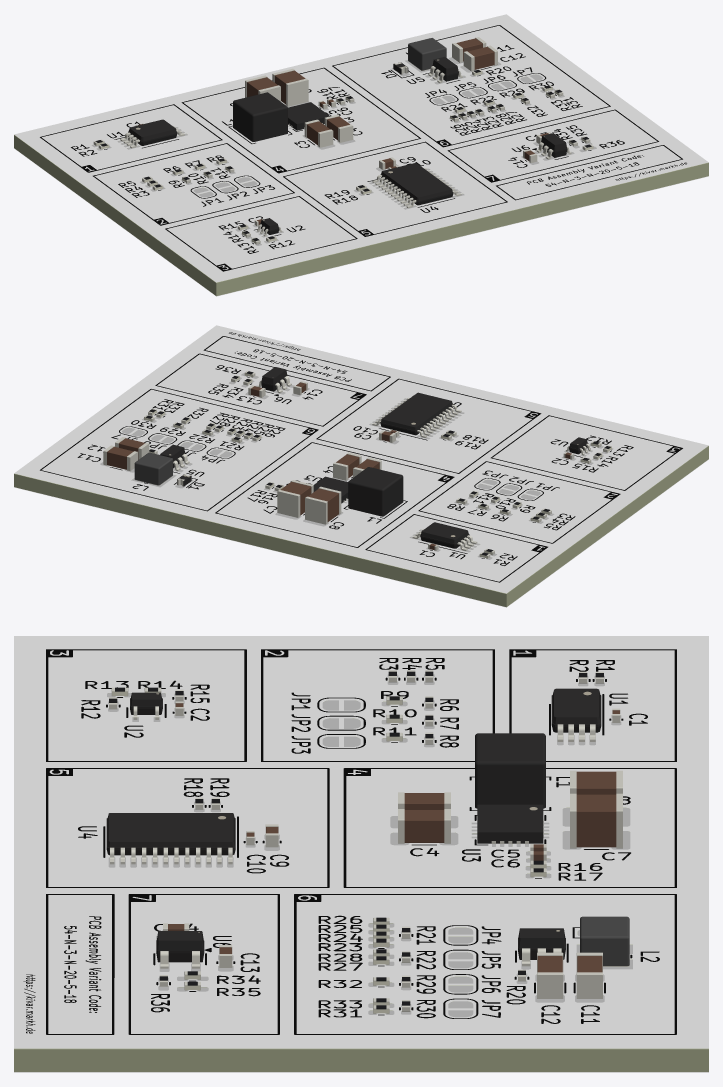
File: board.glb
3 views of the same model, one above another, from view 1: azimuth 30°, elevation 25°; view 2: azimuth 150°, elevation 25°; view 3: azimuth 270°, elevation 25° (orthographic). The views are drawn at different scales.
Visible parts, largest first — view 1: board_soldermask (×2), board_silkscreen, board_PCB, board_pad, C_1206_3216Metric (×4), TSSOP-24_4.4x7.8mm_P0.65mm, L_Coilcraft_XAL4030-XXX, C_1210_3225Metric (×2), TSSOP-8_4.4x3mm_P0.65mm, L_Wuerth_MAPI_3020, QFN-20-1EP_4x4mm_Pitch0.5mm, SOT-23-5 (+1 smaller); view 2: board_soldermask (×2), board_silkscreen, board_PCB, board_pad, TSSOP-24_4.4x7.8mm_P0.65mm, L_Coilcraft_XAL4030-XXX, C_1210_3225Metric (×2), C_1206_3216Metric (×2), TSSOP-8_4.4x3mm_P0.65mm, L_Wuerth_MAPI_3020, SOT-23-5, QFN-20-1EP_4x4mm_Pitch0.5mm; view 3: board_soldermask (×2), board_silkscreen, board_PCB, board_pad, TSSOP-24_4.4x7.8mm_P0.65mm, C_1206_3216Metric (×4), L_Coilcraft_XAL4030-XXX, C_1210_3225Metric (×2), QFN-20-1EP_4x4mm_Pitch0.5mm, TSSOP-8_4.4x3mm_P0.65mm, L_Wuerth_MAPI_3020, SOT-23-5 (+2 smaller).
Part boxes in pixels (bbox=[...]): board_soldermask (×2): bbox=[14, 14, 708, 296]; board_silkscreen: bbox=[40, 25, 686, 271]; board_PCB: bbox=[14, 73, 708, 296]; board_pad: bbox=[91, 57, 596, 245]; C_1206_3216Metric (×4): bbox=[304, 37, 497, 147]; TSSOP-24_4.4x7.8mm_P0.65mm: bbox=[372, 163, 461, 208]; L_Coilcraft_XAL4030-XXX: bbox=[233, 92, 287, 141]; C_1210_3225Metric (×2): bbox=[245, 68, 308, 106]; TSSOP-8_4.4x3mm_P0.65mm: bbox=[120, 119, 184, 148]; L_Wuerth_MAPI_3020: bbox=[408, 38, 446, 70]; QFN-20-1EP_4x4mm_Pitch0.5mm: bbox=[288, 102, 329, 130]; SOT-23-5: bbox=[536, 133, 571, 159]; board_soldermask (×2): bbox=[14, 325, 708, 607]; board_silkscreen: bbox=[40, 332, 682, 582]; board_PCB: bbox=[14, 412, 708, 607]; board_pad: bbox=[100, 373, 612, 559]; TSSOP-24_4.4x7.8mm_P0.65mm: bbox=[372, 392, 461, 437]; L_Coilcraft_XAL4030-XXX: bbox=[348, 467, 403, 516]; C_1210_3225Metric (×2): bbox=[277, 480, 341, 524]; C_1206_3216Metric (×2): bbox=[103, 445, 361, 480]; TSSOP-8_4.4x3mm_P0.65mm: bbox=[412, 522, 477, 550]; L_Wuerth_MAPI_3020: bbox=[134, 452, 172, 485]; SOT-23-5: bbox=[257, 367, 291, 393]; QFN-20-1EP_4x4mm_Pitch0.5mm: bbox=[313, 476, 348, 503]; board_soldermask (×2): bbox=[14, 636, 708, 1072]; board_silkscreen: bbox=[23, 649, 676, 1034]; board_PCB: bbox=[14, 674, 708, 1071]; board_pad: bbox=[107, 674, 632, 1017]; TSSOP-24_4.4x7.8mm_P0.65mm: bbox=[106, 813, 235, 864]; C_1206_3216Metric (×4): bbox=[398, 792, 602, 998]; L_Coilcraft_XAL4030-XXX: bbox=[475, 733, 545, 808]; C_1210_3225Metric (×2): bbox=[570, 770, 622, 848]; QFN-20-1EP_4x4mm_Pitch0.5mm: bbox=[477, 804, 543, 843]; TSSOP-8_4.4x3mm_P0.65mm: bbox=[551, 688, 601, 741]; L_Wuerth_MAPI_3020: bbox=[580, 916, 629, 966]; SOT-23-5: bbox=[156, 931, 204, 968].
Size of the model in its own units: 0.059 by 0.00474 by 0.042.
